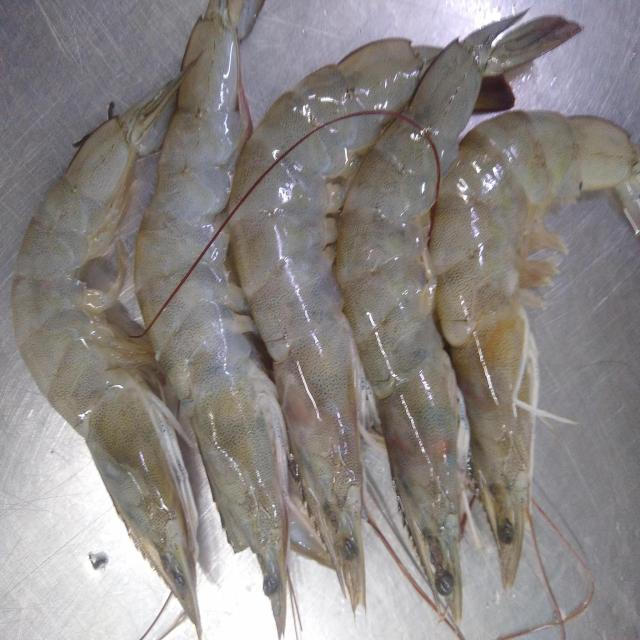shrimp: (228, 38, 423, 612), (10, 66, 201, 637), (336, 16, 516, 621), (431, 110, 637, 587), (134, 0, 288, 638)
